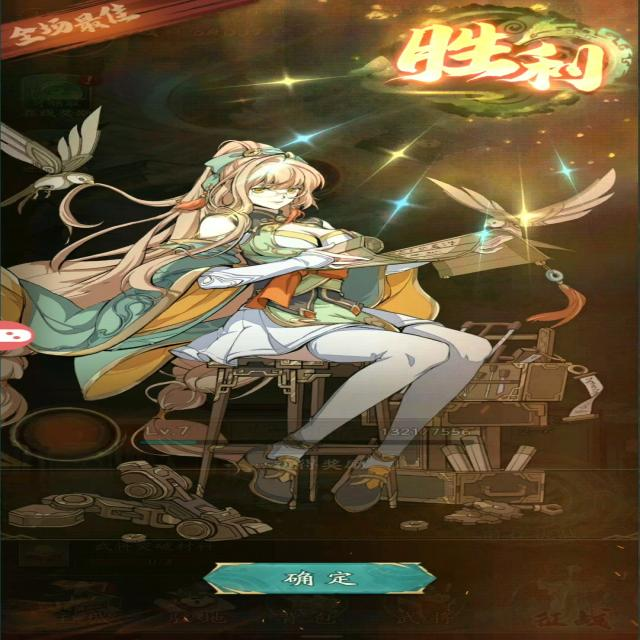operation-enter: (204, 554, 446, 604)
